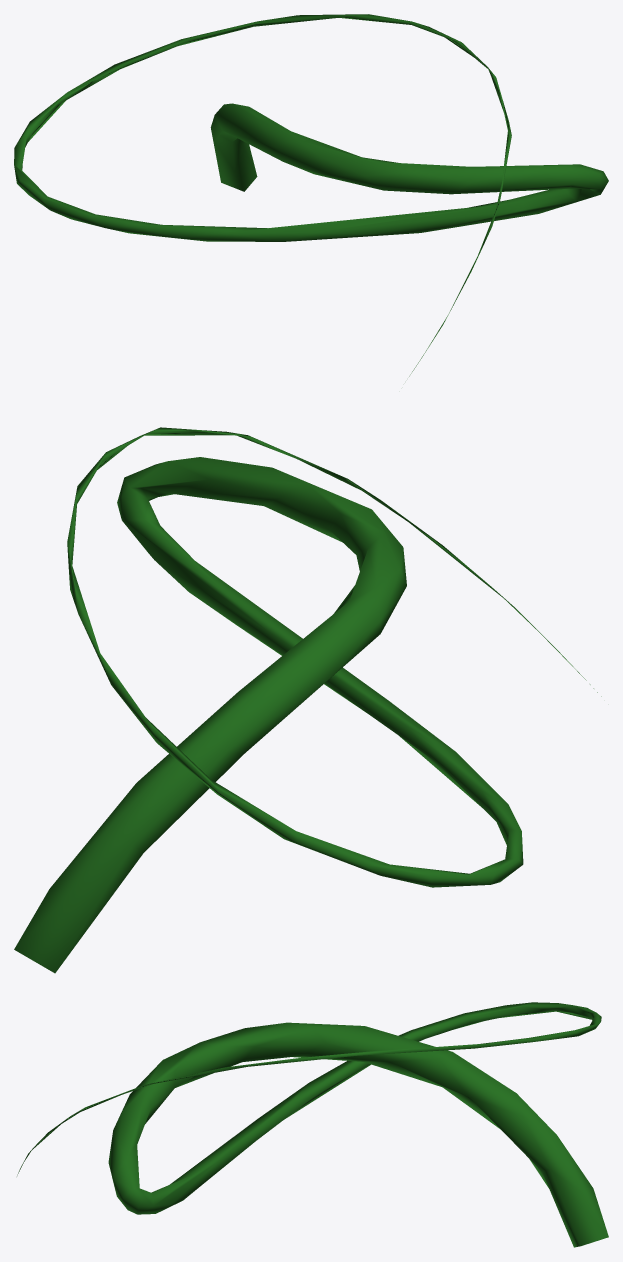
File: Vines02.fbx
The picture shows the model from 3 angles, top to bottom: view 1: azimuth 30°, elevation 25°; view 2: azimuth 150°, elevation 25°; view 3: azimuth 270°, elevation 25°; orthographic projection. The views are drawn at different scales.
Parts seen in each view (by area): view 1: Vine.006; view 2: Vine.006; view 3: Vine.006.
Boxes of the visible parts, <box> form: Vine.006: <box>14,14,608,376</box>; Vine.006: <box>14,427,601,973</box>; Vine.006: <box>17,1002,608,1247</box>.
Size of the model in its own units: 326 by 164 by 369.
